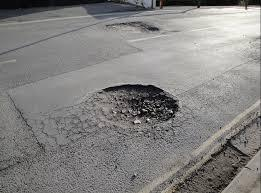Pothole: (158, 109, 261, 193), (82, 76, 191, 132), (103, 14, 164, 40)
